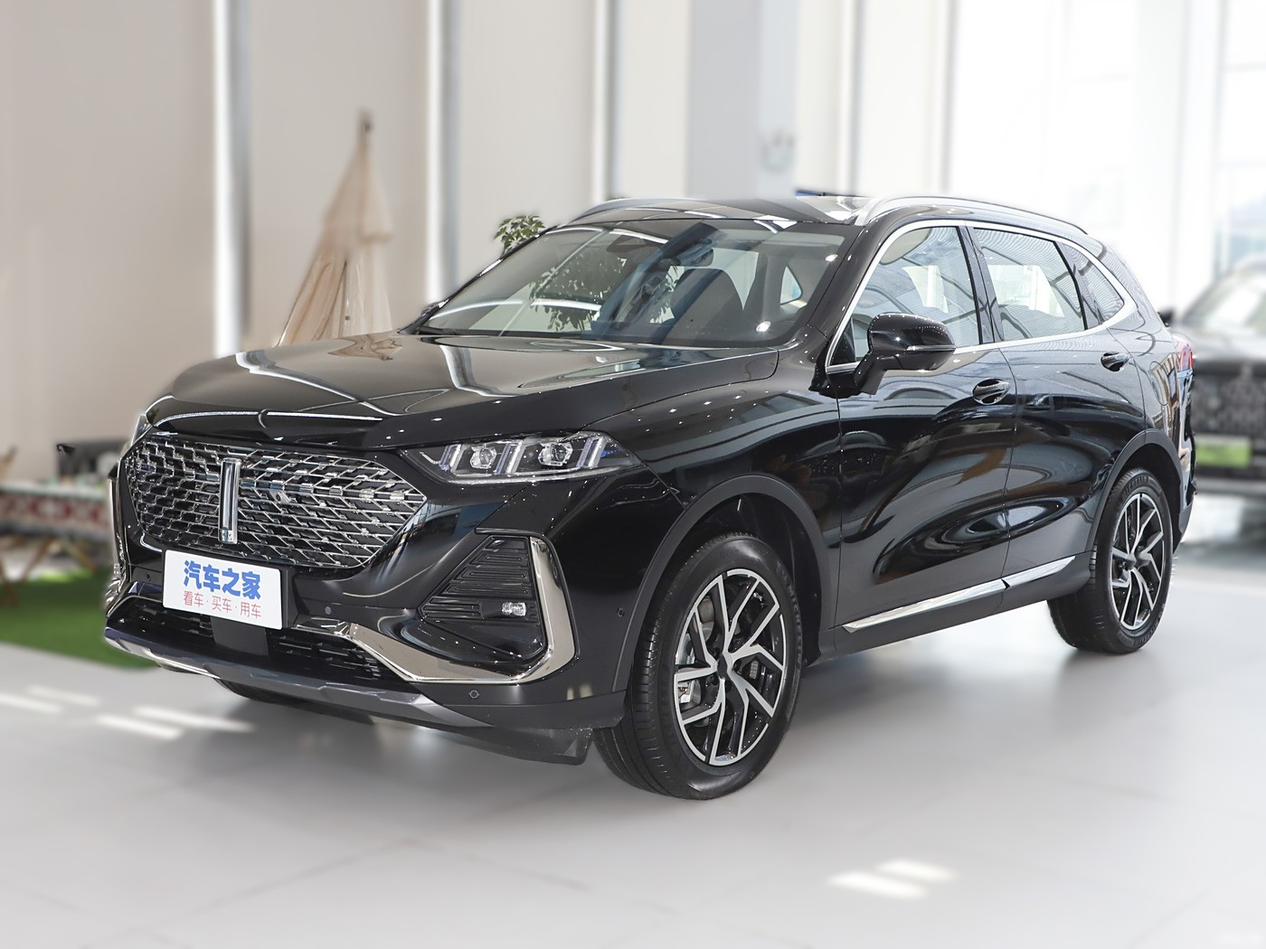WEY: (219, 462, 237, 542)
